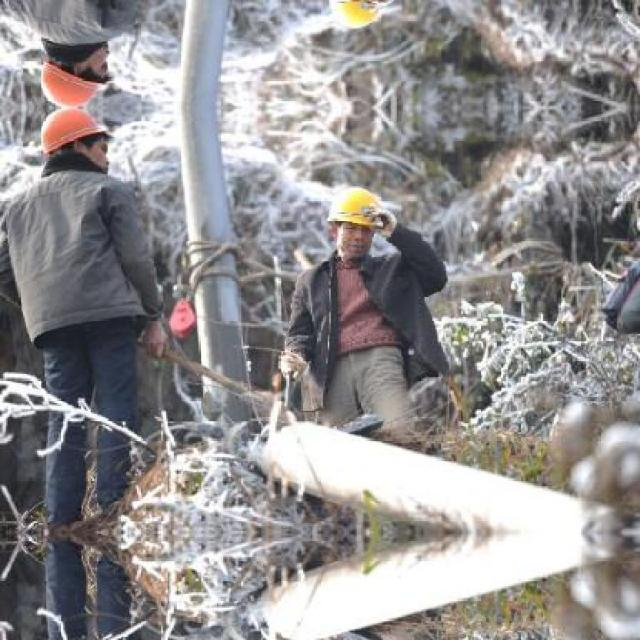helmet: (32, 38, 116, 107), (32, 106, 116, 174), (324, 181, 387, 259), (323, 0, 387, 32)
